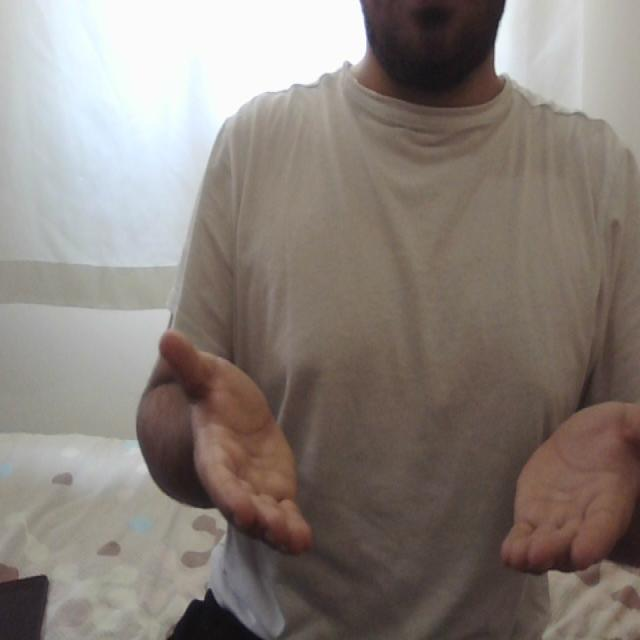Evet: (153, 329, 640, 579)
